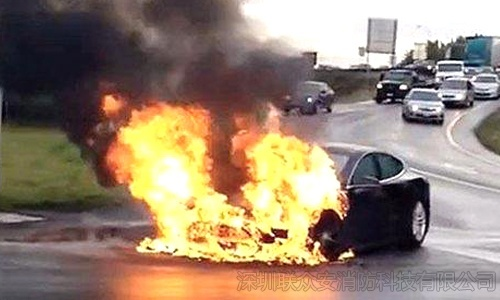fire: (100, 97, 349, 267)
